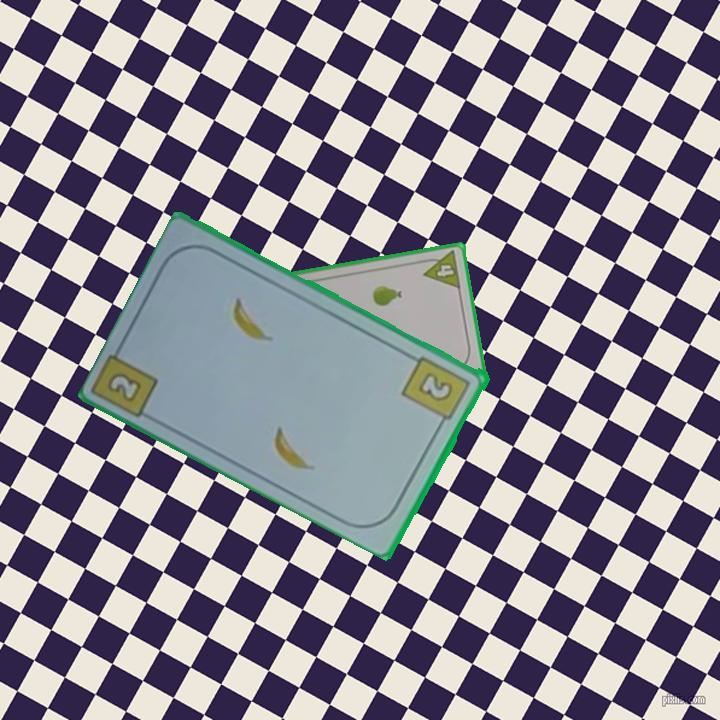2b: (399, 352, 474, 430), (92, 339, 162, 421)
4p: (418, 247, 463, 291)
